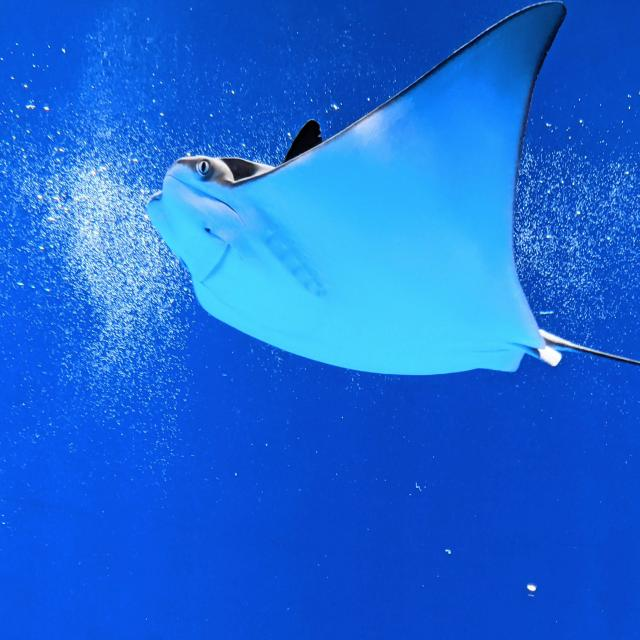stingray: (147, 2, 640, 375)
